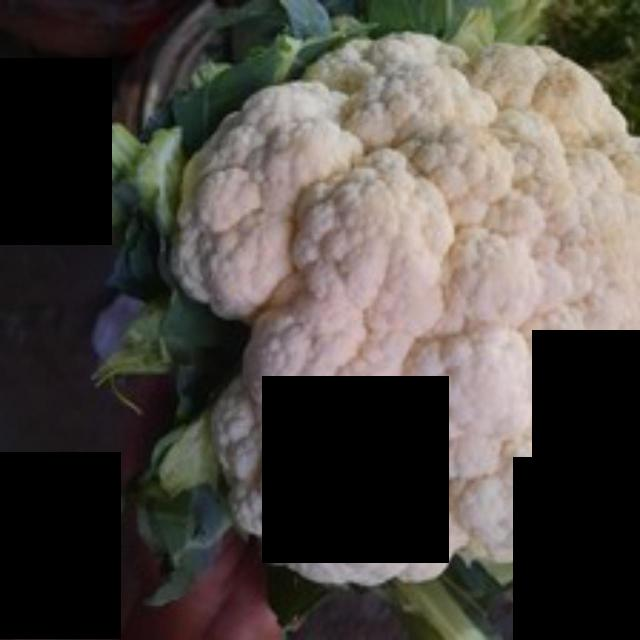cauliflower: (157, 40, 637, 597)
